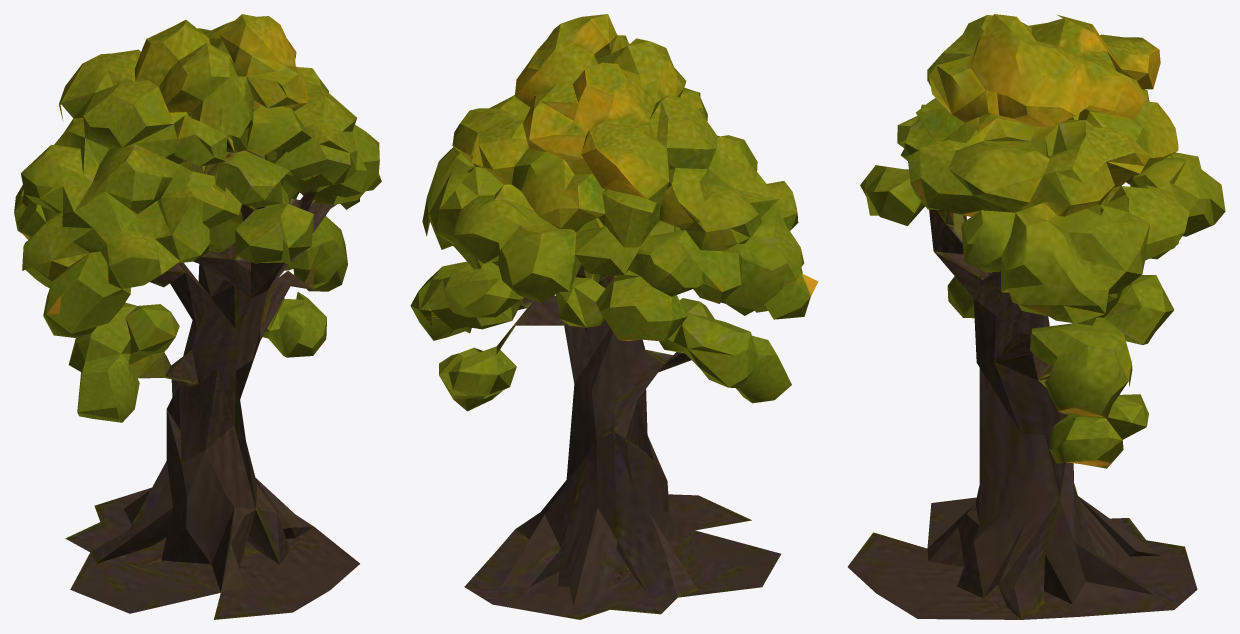
Rendered from tree_oak.glb.
3 views of the same model, side by side, from view 1: azimuth 30°, elevation 25°; view 2: azimuth 150°, elevation 25°; view 3: azimuth 270°, elevation 25° (orthographic). The views are drawn at different scales.
Size of the model in its own units: 1.32 by 1.88 by 1.14.
1 material, 1 textured.
